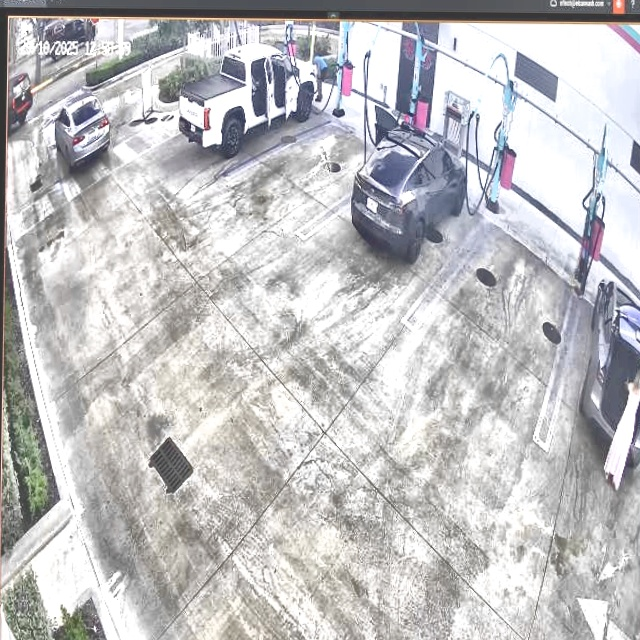Car: (350, 122, 468, 257)
